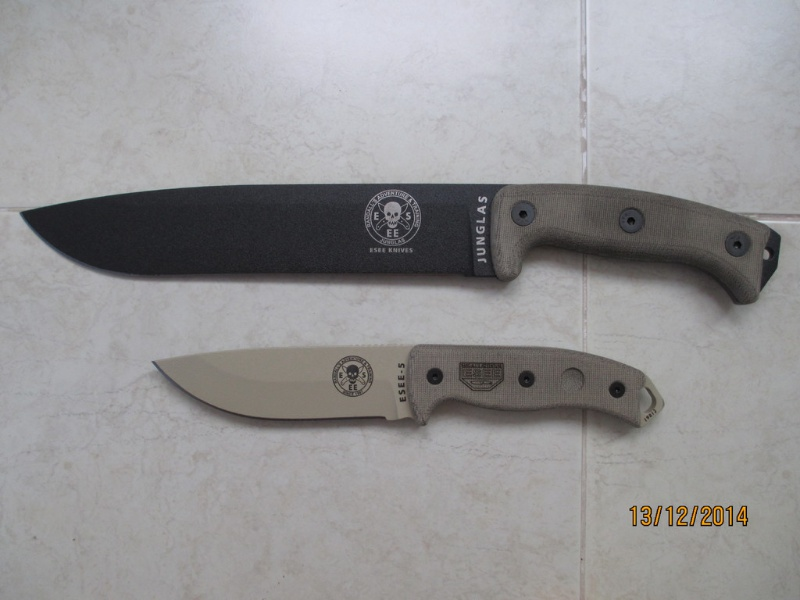knife: (12, 180, 795, 308), (144, 341, 670, 440)
